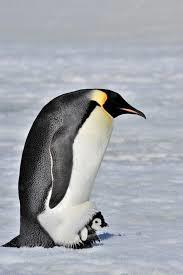emporer: (8, 84, 150, 247)
